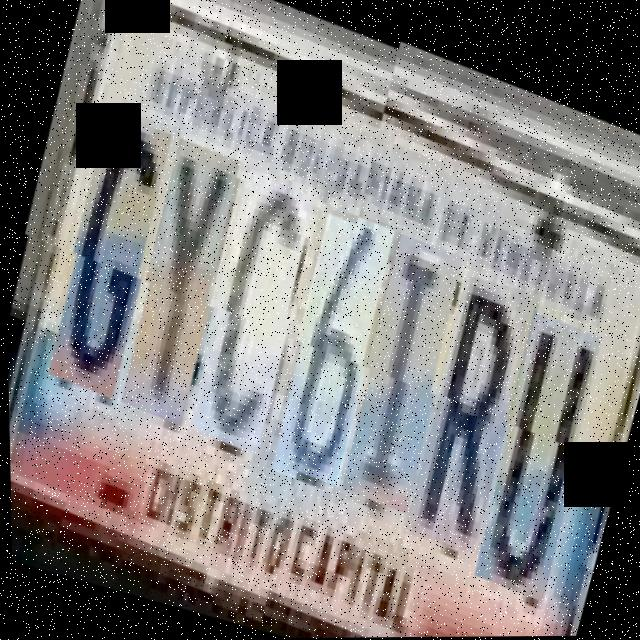6: (258, 209, 406, 488)
C: (175, 170, 328, 449)
G: (33, 108, 185, 396)
I: (326, 233, 475, 512)
R: (396, 276, 544, 555)
U: (459, 309, 614, 597)
Y: (107, 136, 254, 421)
